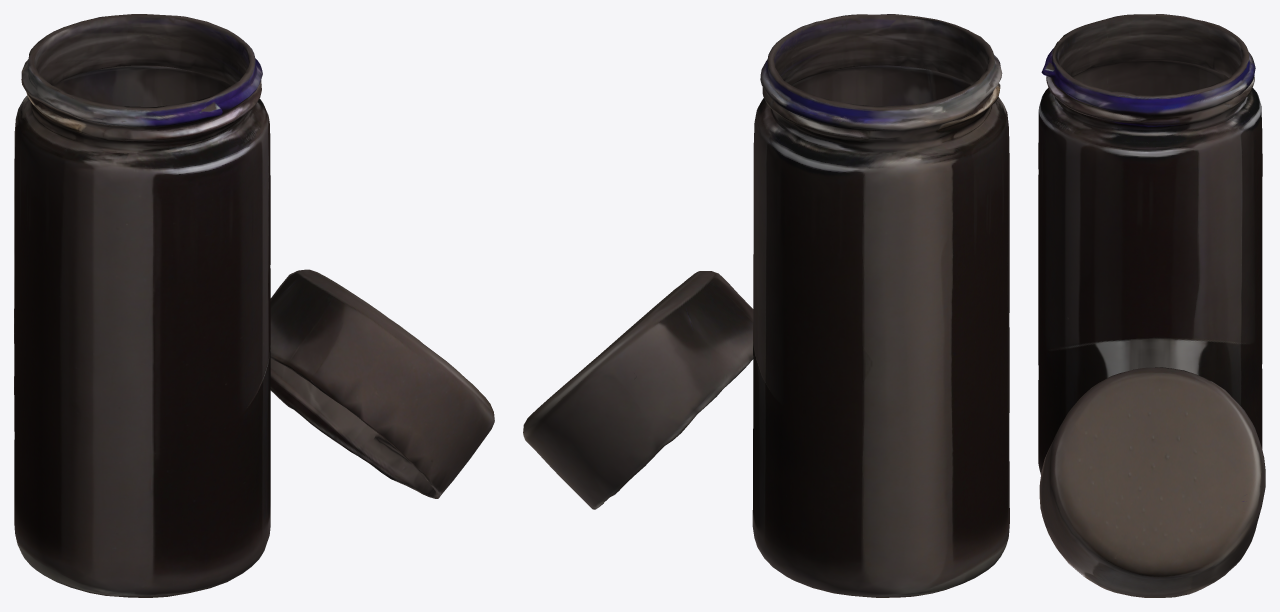
The model's file is Meshy_AI_black_miron_Jar_with_0203151141_texture.glb.
3 renders of one model, left to right at view 1: azimuth 30°, elevation 25°; view 2: azimuth 150°, elevation 25°; view 3: azimuth 270°, elevation 25°, orthographic. The views are drawn at different scales.
Bounding box in the file's own units: 1.91 × 2.02 × 0.9697.
1 material, 1 textured.
